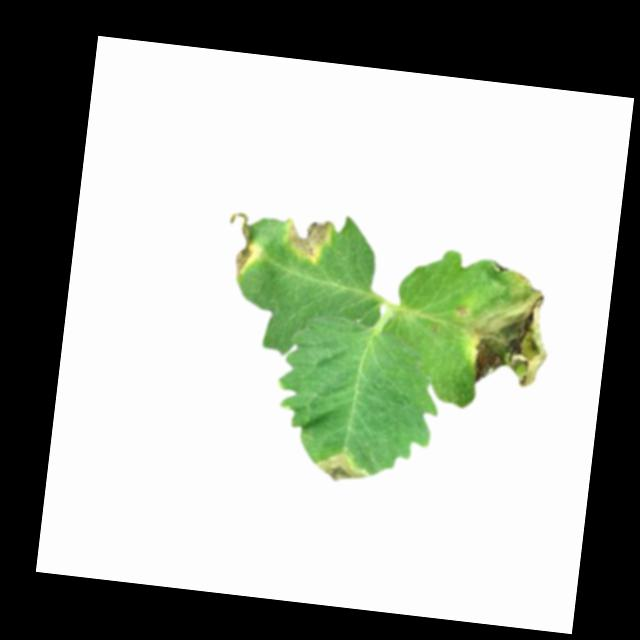Late_blight: (455, 257, 560, 394), (223, 210, 265, 280), (283, 215, 335, 268), (314, 451, 369, 487)
